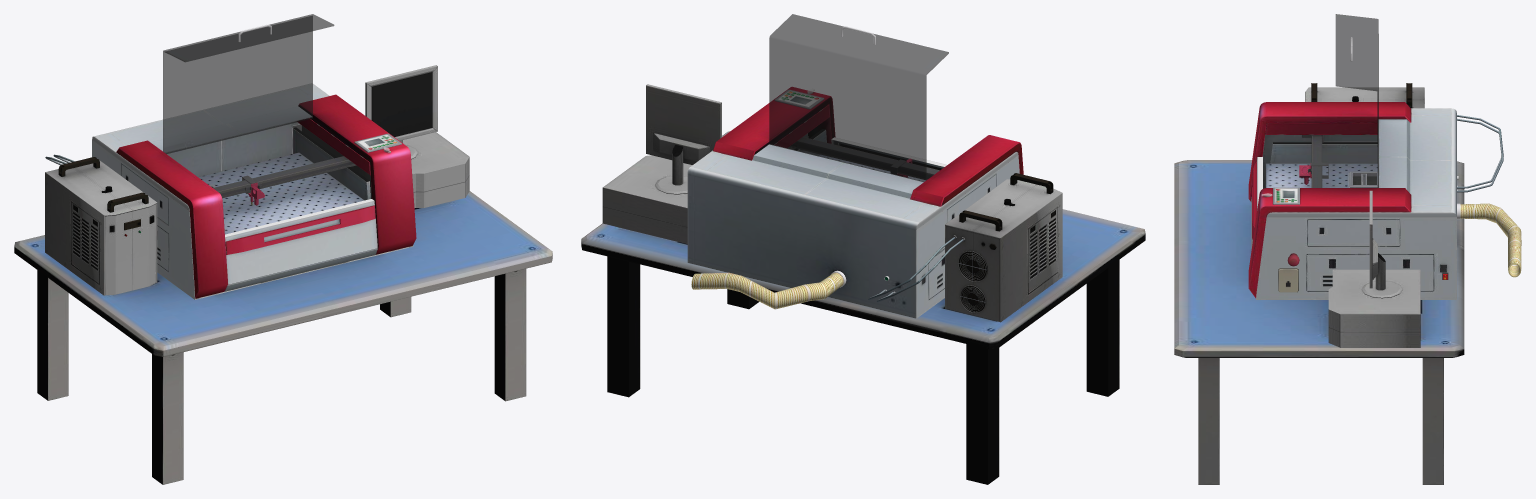
3 views of the same model, side by side, from view 1: azimuth 30°, elevation 25°; view 2: azimuth 150°, elevation 25°; view 3: azimuth 270°, elevation 25° (orthographic). The views are drawn at different scales.
Visible parts, largest first — view 1: TaiMian (2)_9, QGJ_BOX_20, ShangGai_25, SLJ_BOX_3, GongZuoTai_12, XianShiQi_8, DianNao_2, HengLiang_15; view 2: QGJ_BOX_20, TaiMian (2)_9, ShangGai_25, SLJ_BOX_3, XianShiQi_8, DianNao_2, TongFengGuanDao_26, HengLiang_15; view 3: QGJ_BOX_20, TaiMian (2)_9, DianNao_2, ShangGai_25, GongZuoTai_12, SLJ_BOX_3, TongFengGuanDao_26, XianShiQi_8, HengLiang_15, SLJ_GuanDao_4.
Part boxes in pixels (x1,y1,x2,y2): TaiMian (2)_9: (14,191,552,484); QGJ_BOX_20: (92,83,416,299); ShangGai_25: (163,14,334,153); SLJ_BOX_3: (45,157,157,295); GongZuoTai_12: (198,152,364,234); XianShiQi_8: (365,65,437,158); DianNao_2: (403,132,469,207); HengLiang_15: (213,156,356,198); QGJ_BOX_20: (687,87,1023,318); TaiMian (2)_9: (581,131,1145,484); ShangGai_25: (769,14,948,181); SLJ_BOX_3: (945,173,1062,322); XianShiQi_8: (646,84,721,194); DianNao_2: (602,155,692,243); TongFengGuanDao_26: (691,272,843,309); HengLiang_15: (790,137,939,180); QGJ_BOX_20: (1248,102,1456,299); TaiMian (2)_9: (1174,160,1464,484); DianNao_2: (1328,269,1420,347); ShangGai_25: (1335,14,1378,187); GongZuoTai_12: (1266,163,1377,187); SLJ_BOX_3: (1305,83,1424,108); TongFengGuanDao_26: (1460,203,1521,277); XianShiQi_8: (1361,190,1402,298); HengLiang_15: (1302,135,1323,187); SLJ_GuanDao_4: (1457,115,1503,192).
Bounding box in the file's own units: 2.12 × 1.82 × 1.64.
Materials: 5 (4 with a texture image).
